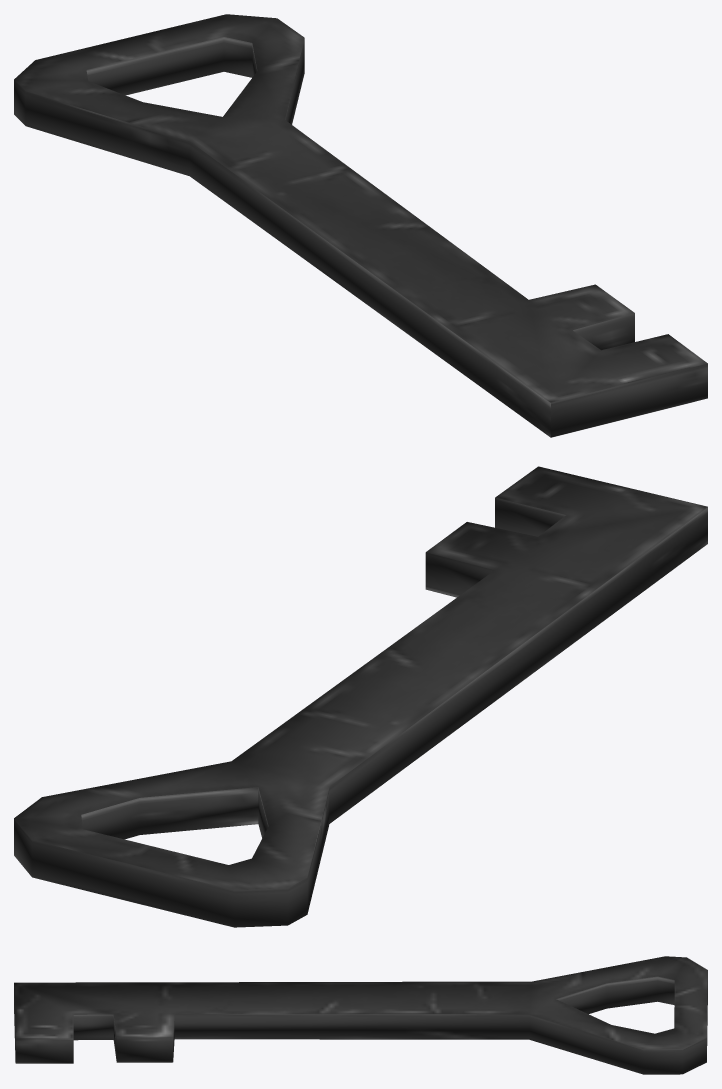
The model's file is iron_key_01.fbx.
3 views of the same model, one above another, from view 1: azimuth 30°, elevation 25°; view 2: azimuth 150°, elevation 25°; view 3: azimuth 270°, elevation 25° (orthographic). The views are drawn at different scales.
Parts seen in each view (by area): view 1: key_01; view 2: key_01; view 3: key_01.
Part boxes in pixels (x1,y1,x2,y2): key_01: [14, 14, 707, 437]; key_01: [14, 466, 707, 927]; key_01: [14, 956, 707, 1074].
Size of the model in its own units: 0.0527 by 0.00666 by 0.166.
